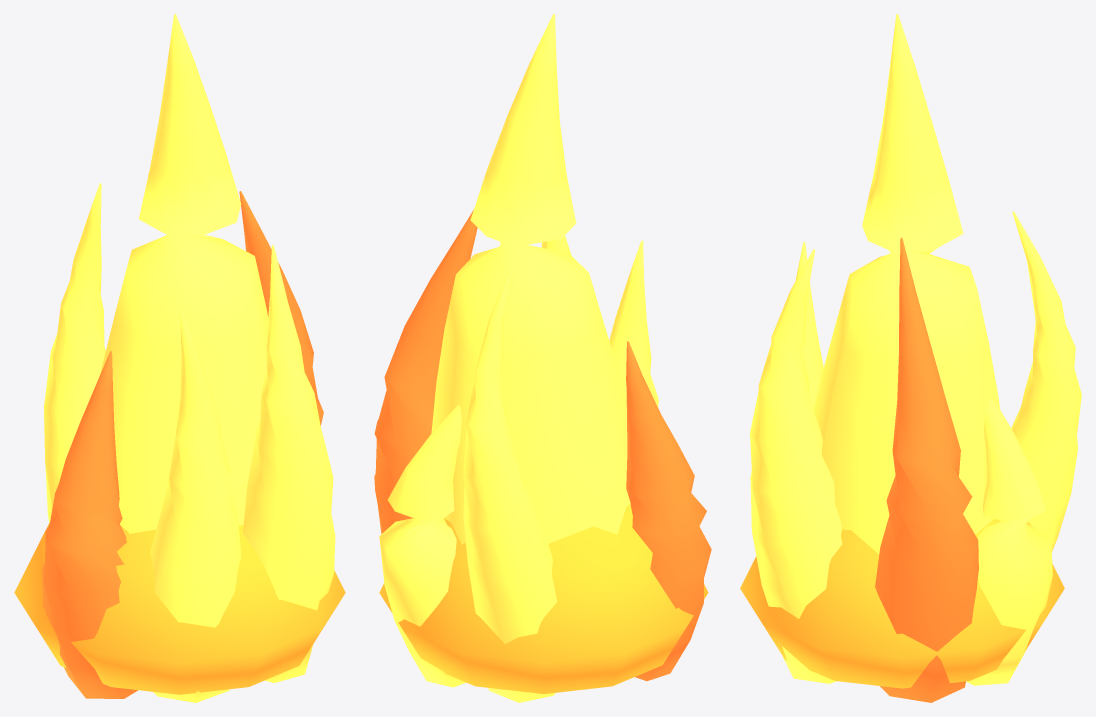
File: flame.glb
The picture shows the model from 3 angles, left to right: view 1: azimuth 30°, elevation 25°; view 2: azimuth 150°, elevation 25°; view 3: azimuth 270°, elevation 25°; orthographic projection. The views are drawn at different scales.
Parts seen in each view (by area): view 1: flame; view 2: flame; view 3: flame.
Part boxes in pixels (x1,y1,x2,y2): flame: [14, 14, 345, 702]; flame: [374, 14, 711, 702]; flame: [740, 14, 1081, 702].
Bounding box in the file's own units: 0.504 × 1.04 × 0.5051.
